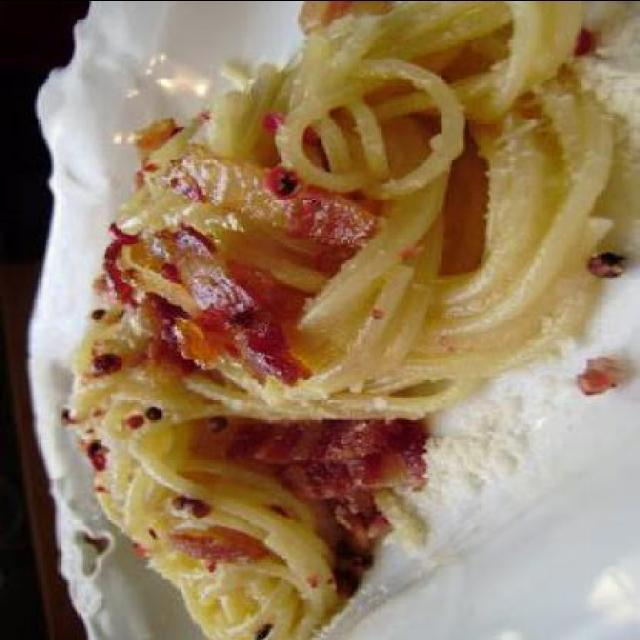Pasta with carbonara sauce: (44, 1, 638, 628)
